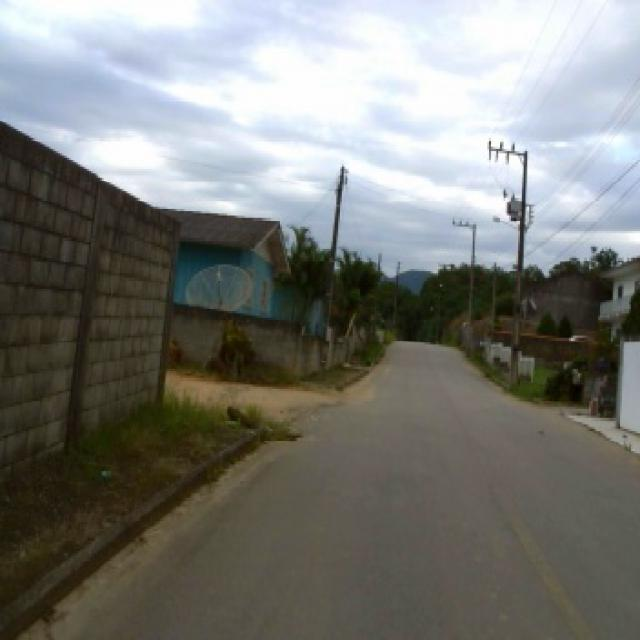Poth-hole: (278, 429, 307, 440)
